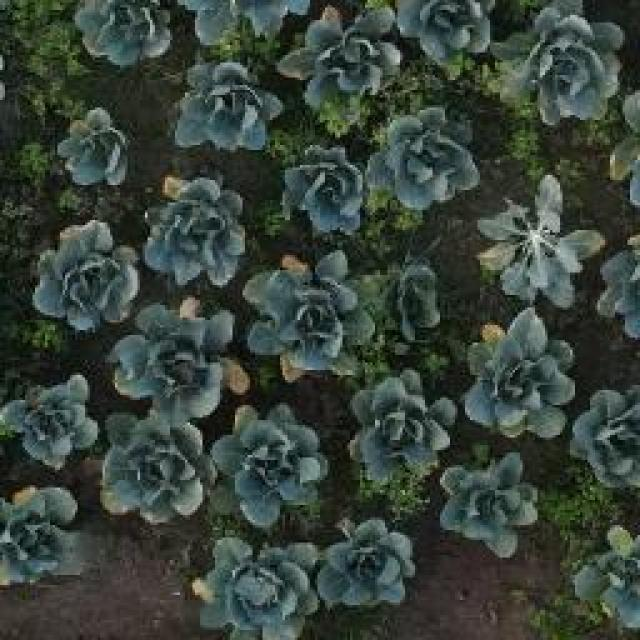cabbage: (496, 5, 623, 115), (217, 410, 331, 525), (112, 302, 222, 420), (258, 264, 378, 371), (290, 5, 399, 119), (468, 312, 568, 434), (197, 539, 314, 640), (36, 220, 140, 330), (102, 415, 204, 524), (487, 191, 588, 297), (146, 178, 245, 284), (373, 108, 478, 205), (357, 374, 455, 475), (0, 372, 100, 468), (0, 486, 94, 588), (316, 516, 416, 610), (179, 60, 283, 149), (441, 462, 536, 556), (398, 0, 494, 74), (73, 0, 173, 67), (53, 110, 136, 188), (576, 386, 640, 486), (284, 148, 362, 227), (174, 0, 307, 42)
